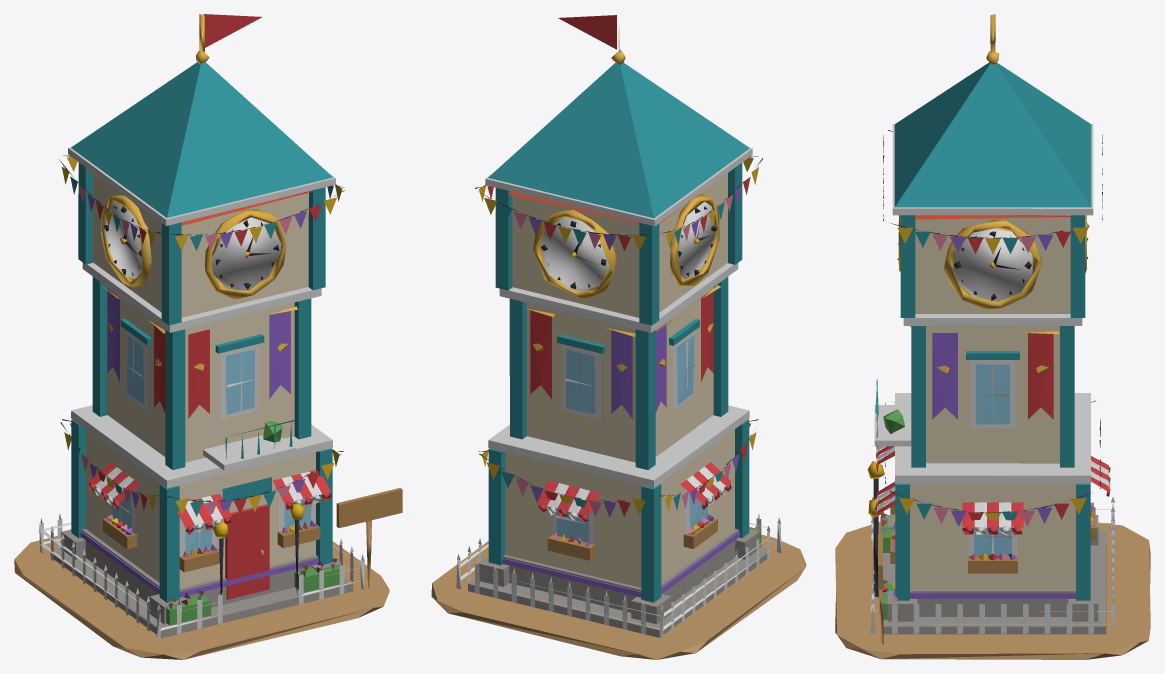
The model's file is clock-tower-lod1-5.6b866fc0.glb.
3 renders of one model, left to right at view 1: azimuth 30°, elevation 25°; view 2: azimuth 150°, elevation 25°; view 3: azimuth 270°, elevation 25°, orthographic. The views are drawn at different scales.
Parts seen in each view (by area): view 1: ClockTower_Stage5__T_vcol; view 2: ClockTower_Stage5__T_vcol; view 3: ClockTower_Stage5__T_vcol.
Part boxes in pixels (x1,y1,x2,y2): ClockTower_Stage5__T_vcol: (14, 14, 402, 659); ClockTower_Stage5__T_vcol: (431, 15, 806, 659); ClockTower_Stage5__T_vcol: (835, 14, 1150, 659).
Size of the model in its own units: 4.94 by 9.62 by 4.75.
